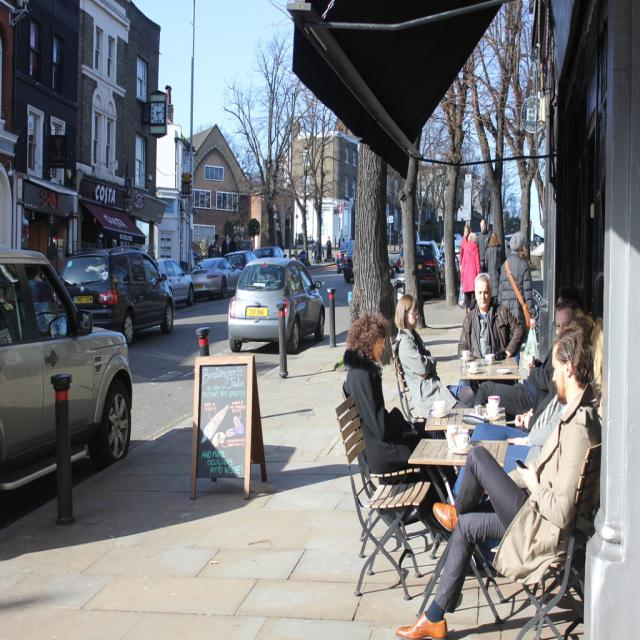car: (222, 251, 328, 363)
